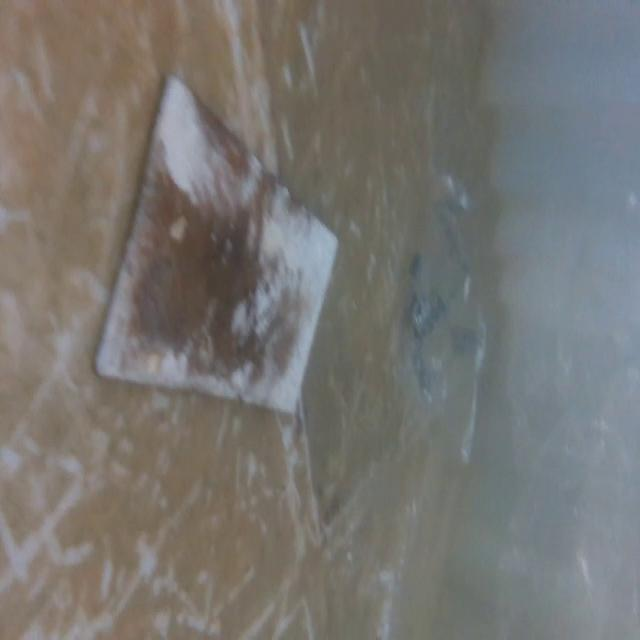metal: (99, 73, 344, 423)
plastic bags: (399, 154, 489, 477)
